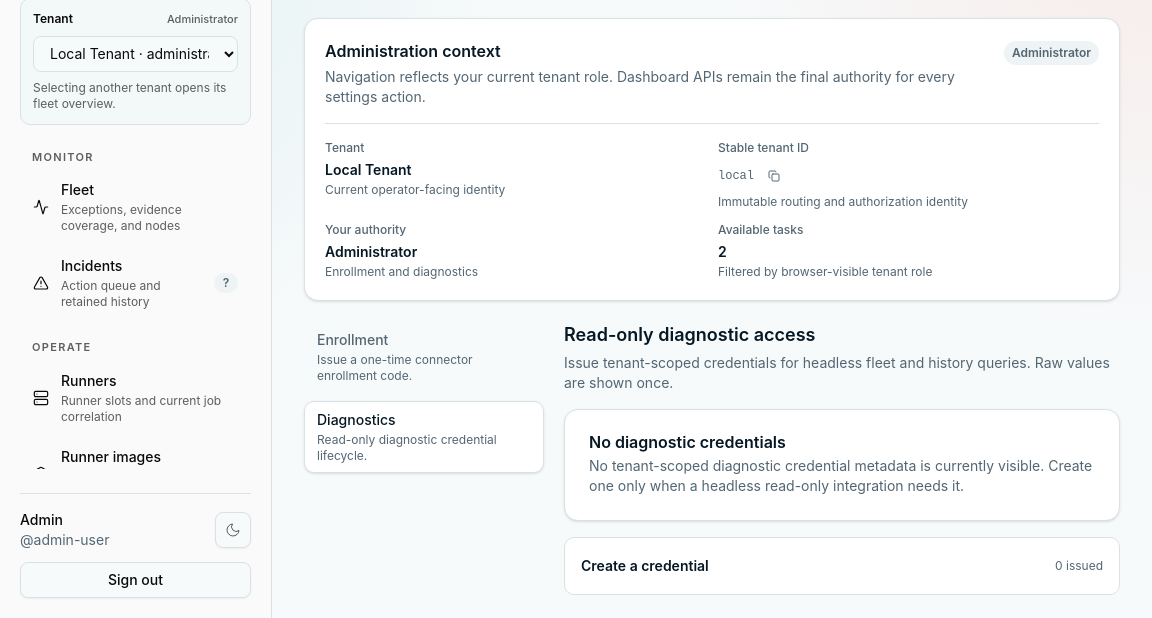
it: settings routes › administrator role › shows diagnostics page with credential form labels
Check: the heading "Read-only diagnostic access" is shown, box x1=564 y1=324 x2=816 y2=345
Check: the field labelled "Credential label" is not shown
Click the text "Create a credential" at (645, 566), box x1=581 y1=556 x2=709 y2=576
(page scrolled)
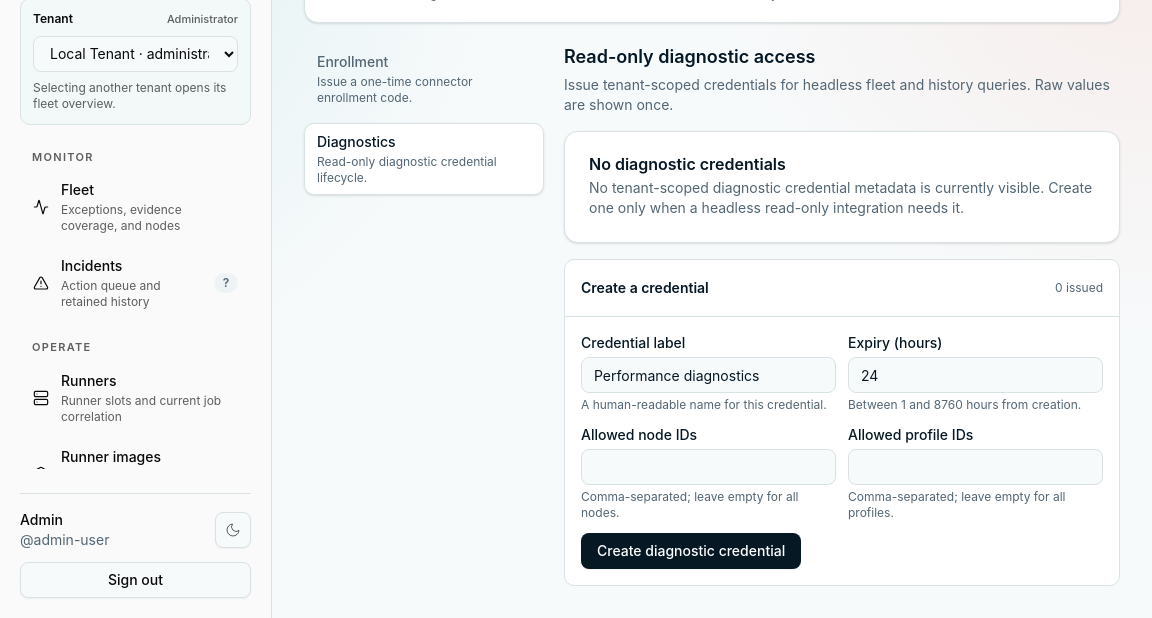
Check: the field labelled "Credential label" is shown, box x1=581 y1=357 x2=836 y2=393
Check: the number field labelled "Expiry (hours)" is shown, box x1=848 y1=357 x2=1103 y2=393
Check: the field labelled "Allowed node IDs" is shown, box x1=581 y1=449 x2=836 y2=485
